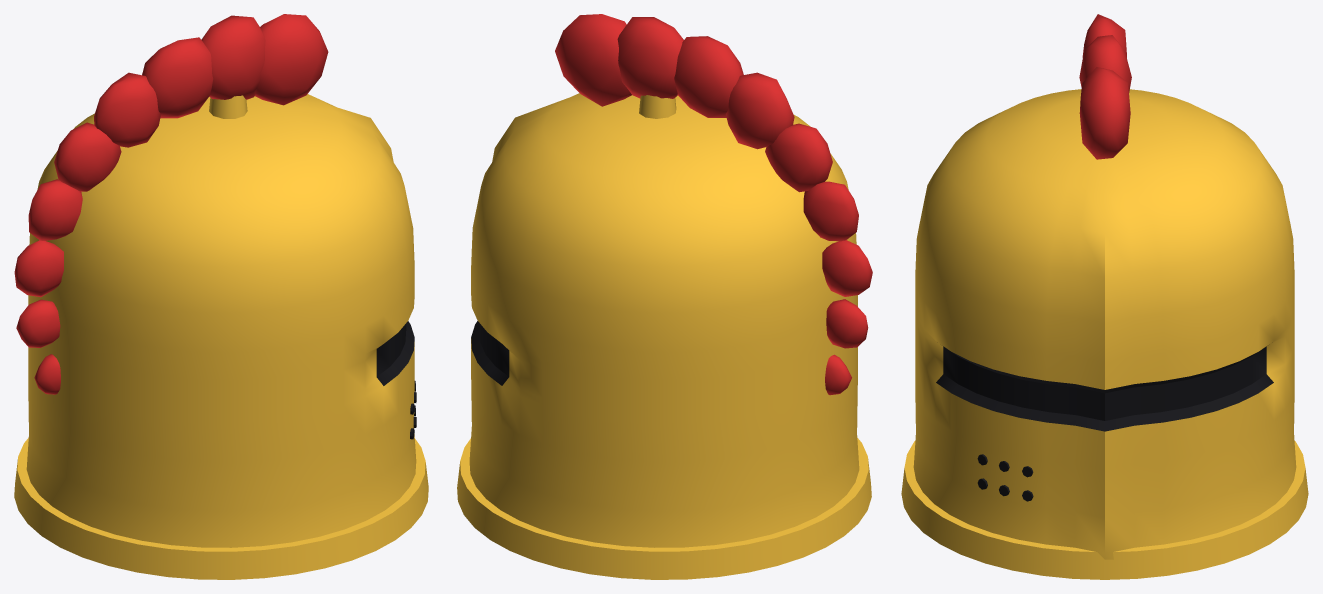
File: acc_knight.glb
3 views of the same model, side by side, from view 1: azimuth 30°, elevation 25°; view 2: azimuth 150°, elevation 25°; view 3: azimuth 270°, elevation 25° (orthographic). The views are drawn at different scales.
Visible parts, largest first — view 1: KnightHelmet, Plume; view 2: KnightHelmet, Plume; view 3: KnightHelmet, Plume.
Boxes of the visible parts, x1,y1,x2,y2 form: KnightHelmet: (14,94,428,579); Plume: (14,14,328,394); KnightHelmet: (457,93,871,579); Plume: (555,14,872,395); KnightHelmet: (901,89,1308,579); Plume: (1079,14,1131,159).
Size of the model in its own units: 0.5704 by 0.6634 by 0.532.
